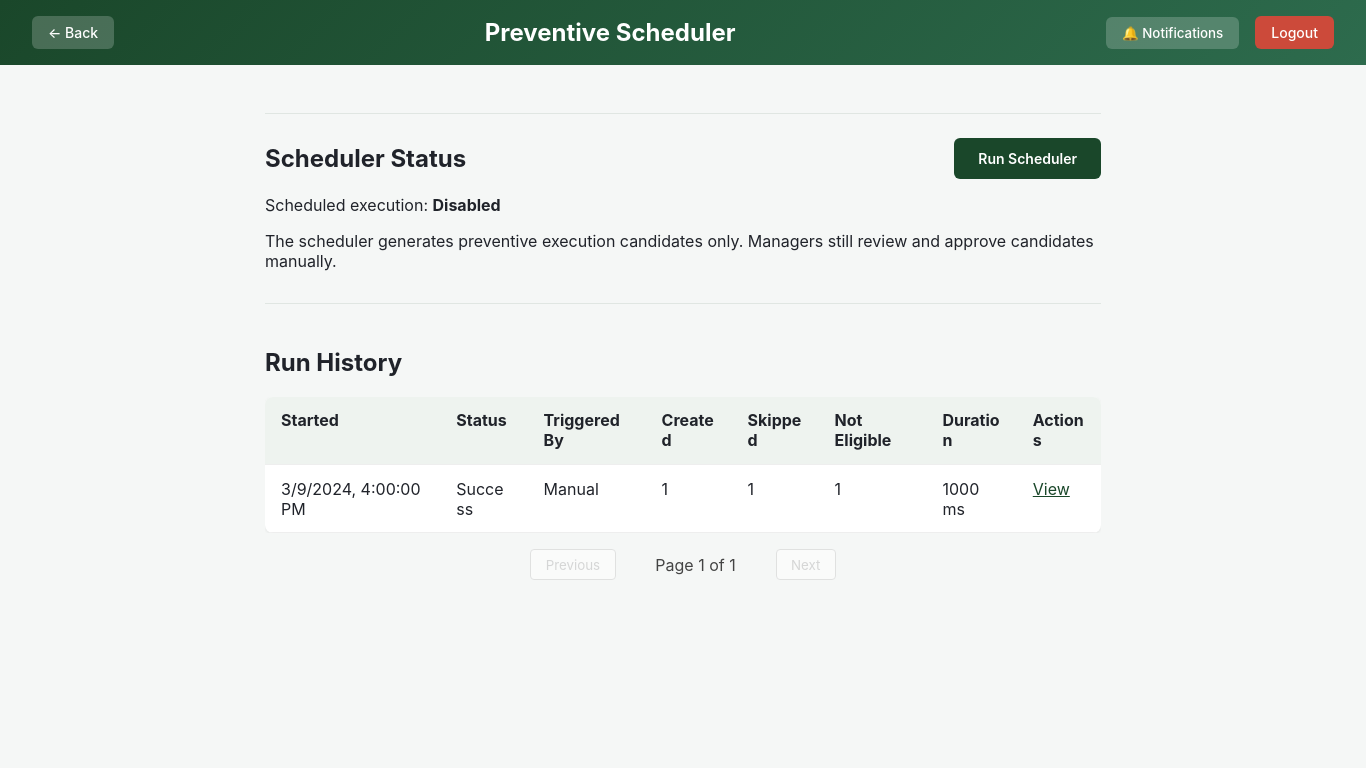
it: PreventiveSchedulerPage › shows run detail with counts
Expected: the heading "Preventive Scheduler" is shown, x1=485 y1=18 x2=736 y2=47
Click the button "View".
click(1051, 489)  # box x1=1033 y1=479 x2=1070 y2=499
(page scrolled)
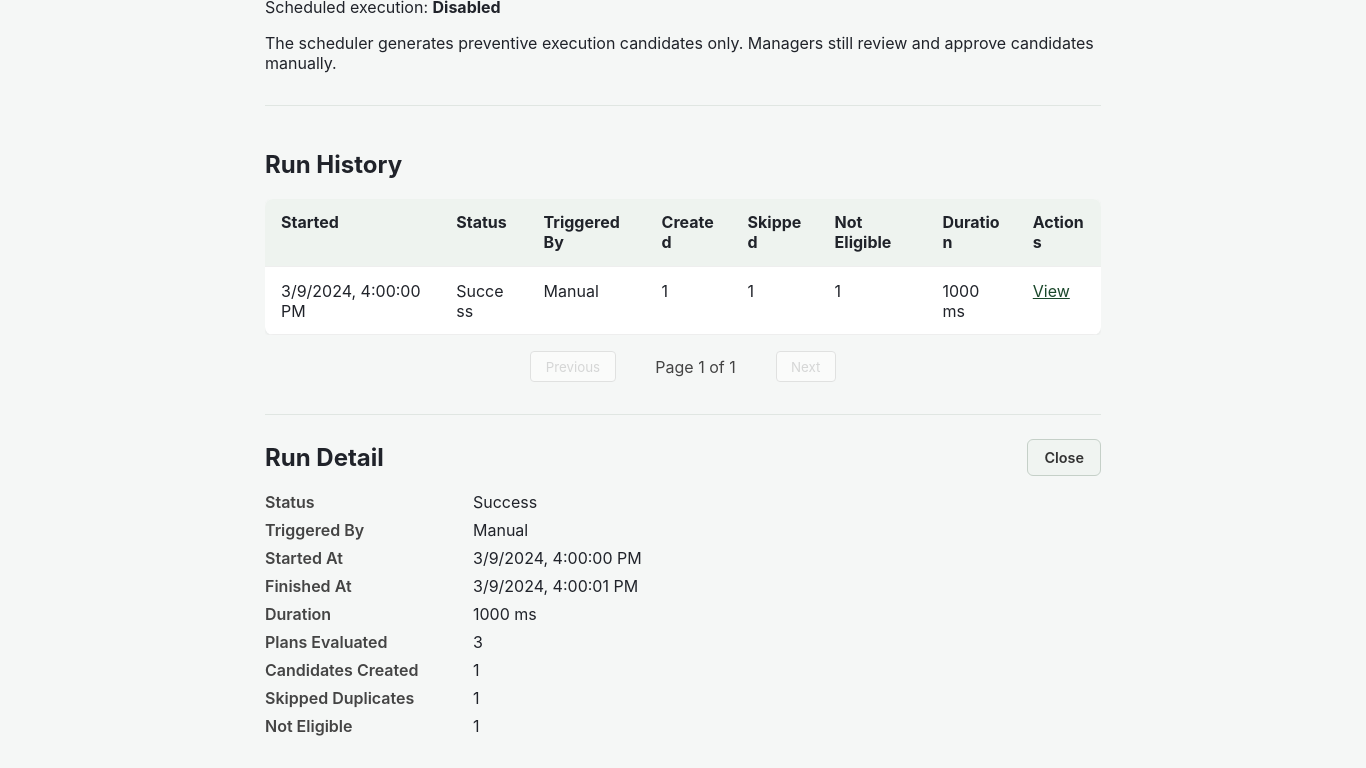
Now the heading "Run Detail" is shown, box x1=265 y1=443 x2=384 y2=472
Now the text "Manual" is shown, box x1=473 y1=520 x2=528 y2=540
Now the text "Candidates Created" is shown, box x1=265 y1=660 x2=418 y2=680
